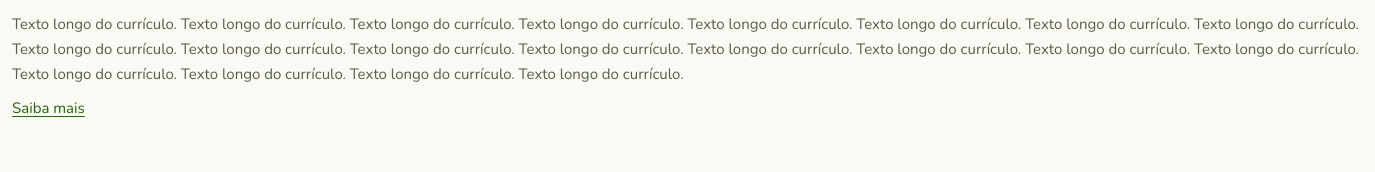
Scenario: BioExpansivel › expande e recolhe ao clicar
Click the button named "Saiba mais sobre Fulana" at coordinates (48, 108), box 12,95 -> 85,121
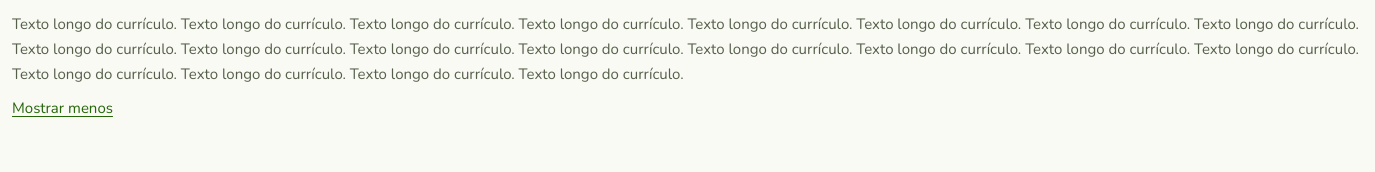
Now the button named "Mostrar menos sobre Fulana" is expanded
Click the button named "Mostrar menos sobre Fulana" at coordinates (62, 108), box 12,95 -> 113,121
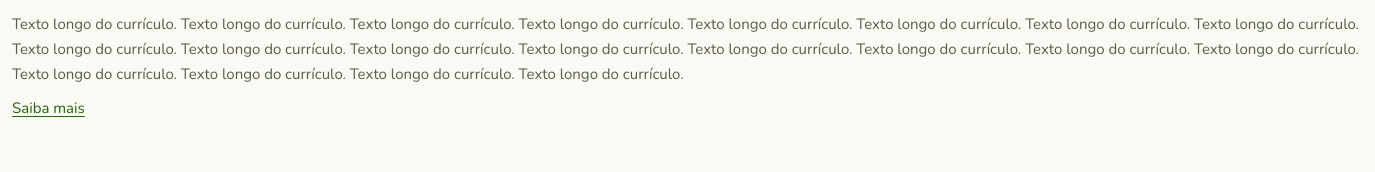
Now the button named "Saiba mais sobre Fulana" is collapsed, box 12,95 -> 85,121
